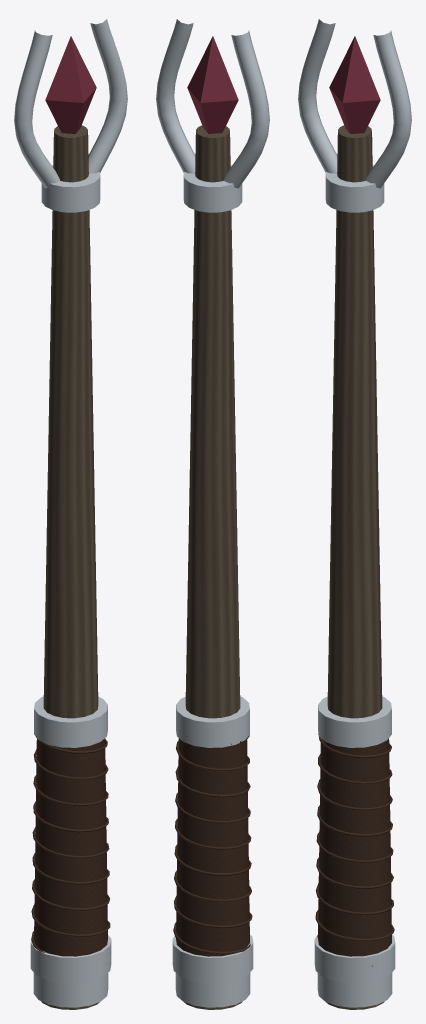
File: corealm_wand_3.glb
The picture shows the model from 3 angles, left to right: view 1: azimuth 30°, elevation 25°; view 2: azimuth 150°, elevation 25°; view 3: azimuth 330°, elevation 25°; orthographic projection.
Parts seen in each view (by area): view 1: corealm-weapon-wood, corealm-weapon-leather, corealm-weapon-metal, corealm-weapon-gem; view 2: corealm-weapon-wood, corealm-weapon-leather, corealm-weapon-metal, corealm-weapon-gem; view 3: corealm-weapon-wood, corealm-weapon-leather, corealm-weapon-metal, corealm-weapon-gem.
Boxes of the visible parts, x1,y1,x2,y2 form: corealm-weapon-wood: (41, 125, 99, 1009); corealm-weapon-leather: (31, 736, 110, 956); corealm-weapon-metal: (14, 19, 127, 1007); corealm-weapon-gem: (45, 36, 96, 133); corealm-weapon-wood: (184, 125, 242, 1009); corealm-weapon-leather: (173, 730, 252, 956); corealm-weapon-metal: (156, 19, 269, 1007); corealm-weapon-gem: (187, 36, 238, 133); corealm-weapon-wood: (326, 125, 384, 1009); corealm-weapon-leather: (315, 734, 394, 966); corealm-weapon-metal: (298, 19, 411, 1007); corealm-weapon-gem: (329, 36, 380, 133).
Bounding box in the file's own units: 0.0826 × 0.6854 × 0.052.
4 materials, 2 textured.
